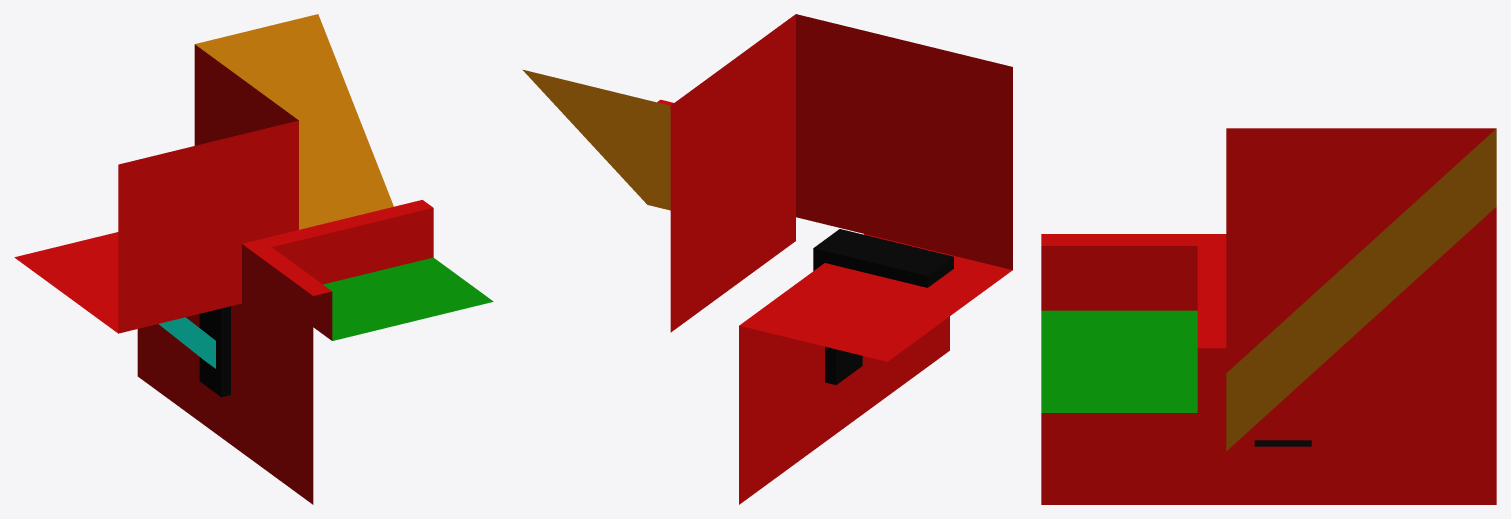
The picture shows the model from 3 angles, left to right: view 1: azimuth 30°, elevation 25°; view 2: azimuth 150°, elevation 25°; view 3: azimuth 270°, elevation 25°; orthographic projection. The views are drawn at different scales.
Visible parts, largest first — view 1: None_S_W_E_E_E_E_A_E_None; view 2: None_S_W_E_E_E_E_A_E_None; view 3: None_S_W_E_E_E_E_A_E_None.
Part boxes in pixels (box(x1,y1,x2,y2)): None_S_W_E_E_E_E_A_E_None: box(14, 14, 493, 504); None_S_W_E_E_E_E_A_E_None: box(522, 14, 1012, 504); None_S_W_E_E_E_E_A_E_None: box(1041, 128, 1496, 504).
Bounding box in the file's own units: 100 × 100 × 100.
